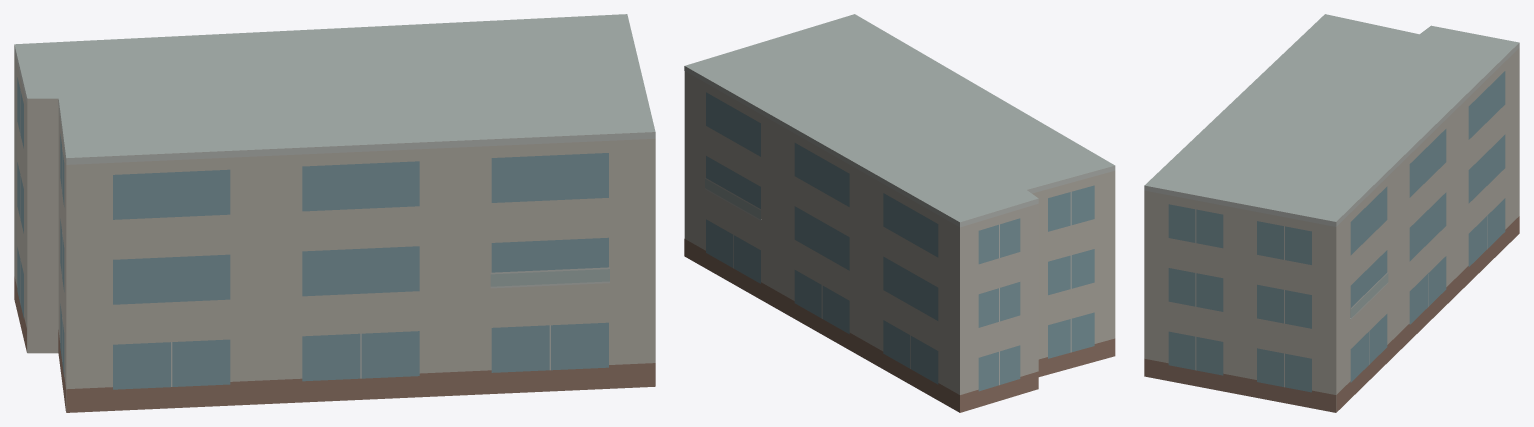
Rendered from survey-upis-32926048.glb.
3 renders of one model, left to right at view 1: azimuth 30°, elevation 25°; view 2: azimuth 150°, elevation 25°; view 3: azimuth 270°, elevation 25°, orthographic. The views are drawn at different scales.
Parts seen in each view (by area): view 1: survey-upis-32926048.tmp; view 2: survey-upis-32926048.tmp; view 3: survey-upis-32926048.tmp.
Part boxes in pixels (box(x1,y1,x2,y2)): survey-upis-32926048.tmp: box(14, 14, 655, 412); survey-upis-32926048.tmp: box(684, 14, 1115, 412); survey-upis-32926048.tmp: box(1144, 14, 1519, 412).
Size of the model in its own units: 21.38 by 9.15 by 16.31.
